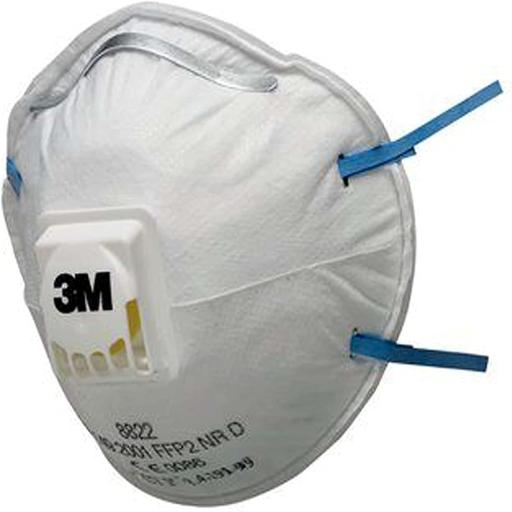mask: (0, 0, 429, 509)
